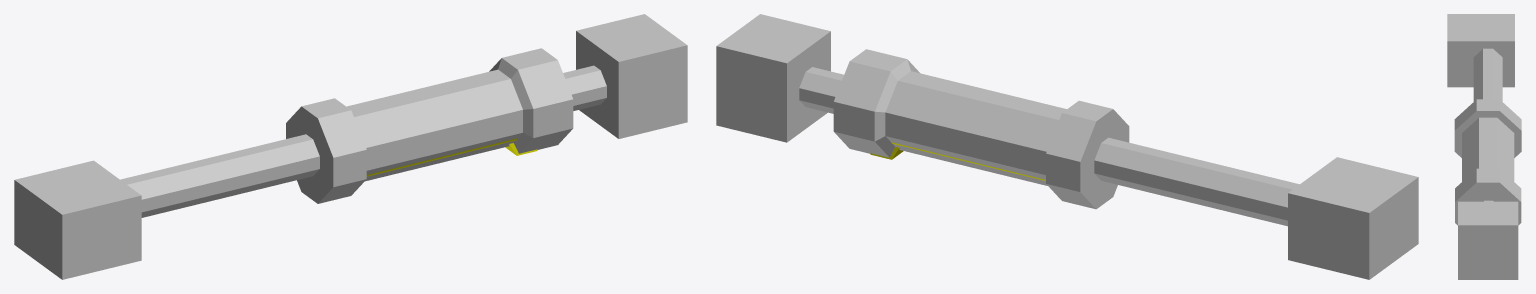
Rendered from sm_hana_bas_actuator.glb.
3 views of the same model, side by side, from view 1: azimuth 30°, elevation 25°; view 2: azimuth 150°, elevation 25°; view 3: azimuth 270°, elevation 25° (orthographic). The views are drawn at different scales.
Parts seen in each view (by area): view 1: sm_color_common, sm_hana_bas_actuator; view 2: sm_color_common; view 3: sm_color_common.
Boxes of the visible parts, x1,y1,x2,y2 form: sm_color_common: (14,14,687,279); sm_hana_bas_actuator: (366,138,537,176); sm_color_common: (716,14,1418,279); sm_color_common: (1447,14,1521,279).
Bounding box in the file's own units: 1.34 × 0.1731 × 0.1929.
2 materials, 1 textured.
